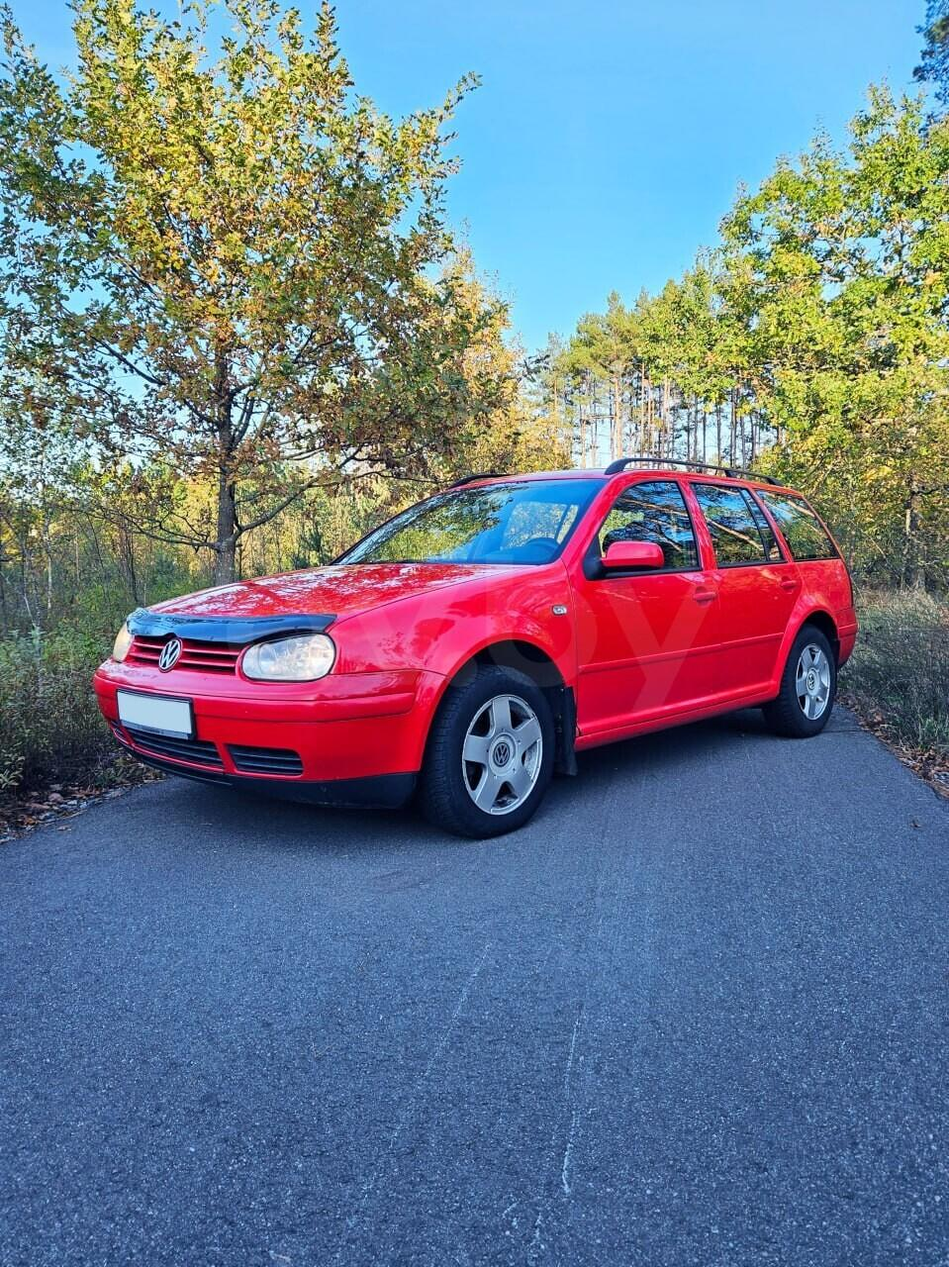Golf_1997-2006: (96, 453, 857, 831)
